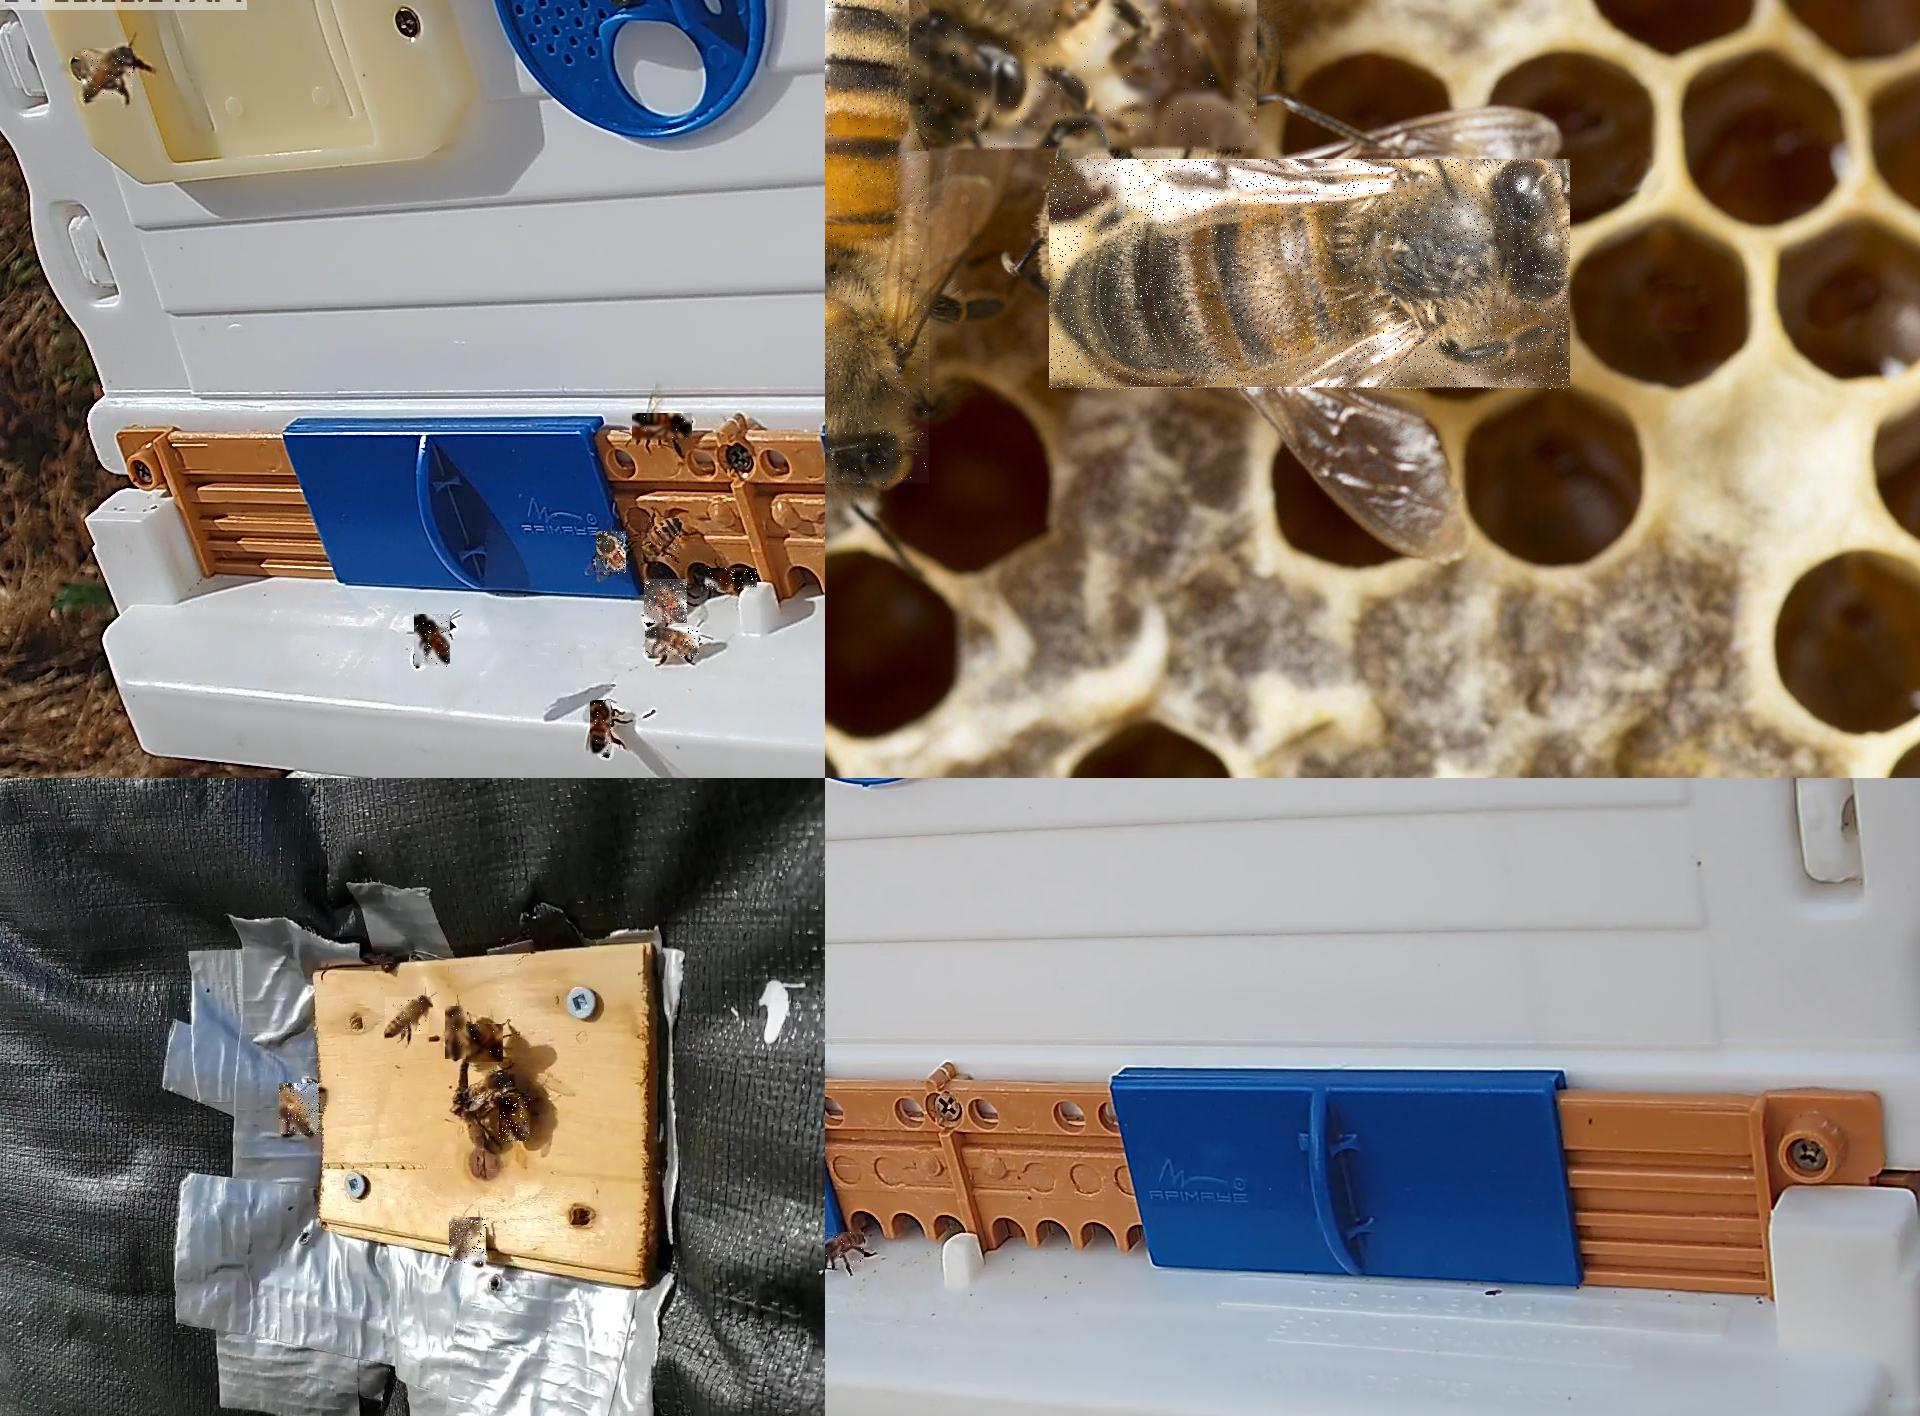bee: (1049, 159, 1571, 392), (909, 0, 1260, 154), (824, 0, 932, 484), (80, 49, 134, 103), (280, 1084, 323, 1136), (644, 578, 689, 625), (414, 616, 452, 669), (449, 1218, 487, 1265), (641, 517, 680, 562), (632, 414, 693, 443), (645, 628, 701, 659), (385, 997, 431, 1034), (824, 1233, 866, 1268), (467, 1024, 504, 1063), (468, 1070, 513, 1101), (499, 1097, 531, 1142), (596, 532, 628, 575), (590, 701, 613, 757), (446, 1006, 468, 1060), (705, 569, 759, 590)
